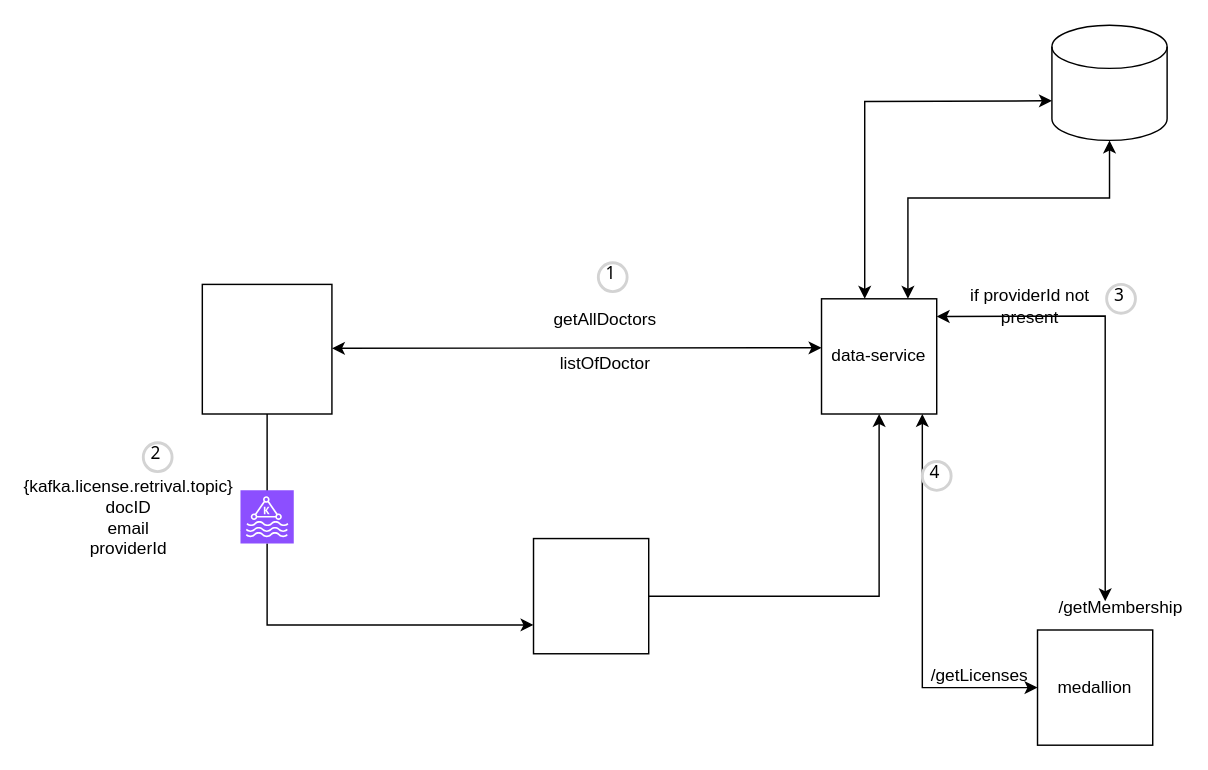
Some shapes in this 1208 by 770 pixel diagram are drawn without their labels. The centre of each missing label's shape, as x and y in pixels:
consumer: (x=590, y=595)
doctor doctor_license: (x=1108, y=82)
medallion-secheduler-service: (x=266, y=348)
